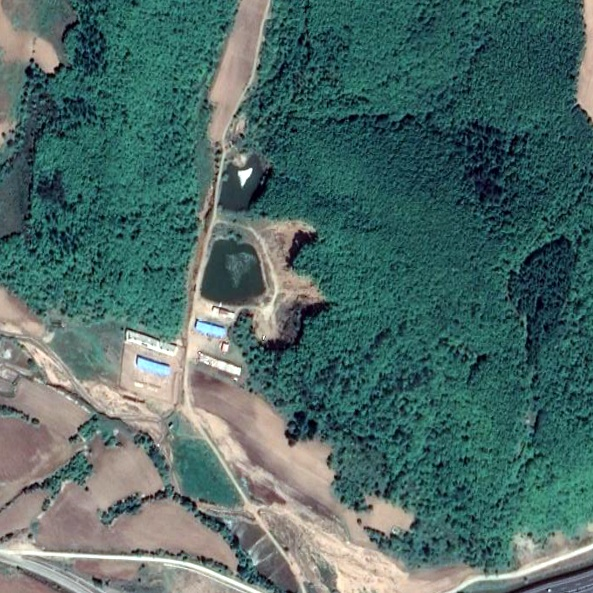slope: (259, 496, 474, 592), (247, 212, 327, 352)
